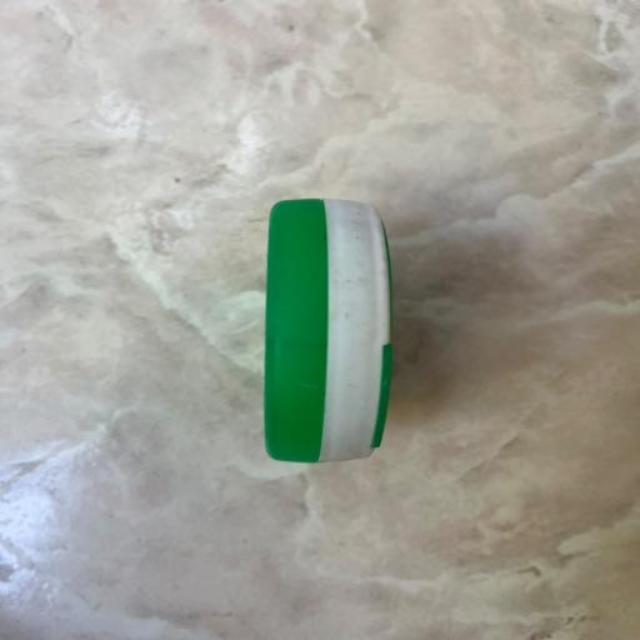HDPE: (212, 184, 459, 490)
